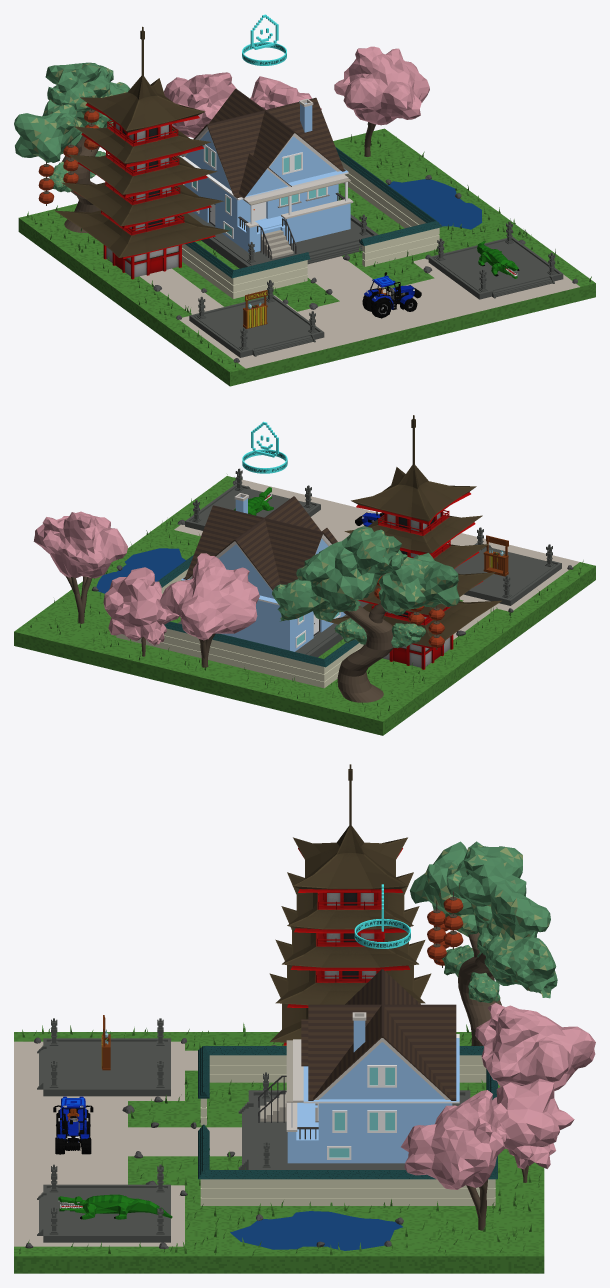
3 renders of one model, top to bottom at view 1: azimuth 30°, elevation 25°; view 2: azimuth 150°, elevation 25°; view 3: azimuth 270°, elevation 25°, orthographic. The views are drawn at different scales.
Parts seen in each view (by area): view 1: Cube.005, Cube.1594, VEHICLES_TRACTOR, TYPE_PREMIUM, ANIMAL_COCODRILO, OBJRANDOM_LEMONADE_STAND; view 2: Cube.005, Cube.1594, TYPE_PREMIUM, OBJRANDOM_LEMONADE_STAND, ANIMAL_COCODRILO; view 3: Cube.005, Cube.1594, VEHICLES_TRACTOR, ANIMAL_COCODRILO, TYPE_PREMIUM.
Boxes of the visible parts, box(x1,y1,x2,y2) form: Cube.005: box(14, 26, 595, 386); Cube.1594: box(178, 88, 353, 259); VEHICLES_TRACTOR: box(362, 272, 421, 318); TYPE_PREMIUM: box(242, 14, 286, 65); ANIMAL_COCODRILO: box(477, 241, 519, 278); OBJRANDOM_LEMONADE_STAND: box(243, 290, 267, 328); Cube.005: box(14, 415, 595, 735); Cube.1594: box(181, 493, 345, 651); TYPE_PREMIUM: box(242, 421, 287, 473); OBJRANDOM_LEMONADE_STAND: box(483, 535, 508, 576); ANIMAL_COCODRILO: box(234, 487, 273, 515); Cube.005: box(14, 764, 595, 1273); Cube.1594: box(258, 969, 459, 1163); VEHICLES_TRACTOR: box(53, 1096, 93, 1154); ANIMAL_COCODRILO: box(58, 1194, 172, 1219); TYPE_PREMIUM: box(354, 884, 410, 948).
Bounding box in the file's own units: 4528 × 2640 × 4389.
Materials: 45 (7 with a texture image).
